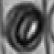correct: (4, 0, 43, 54)
